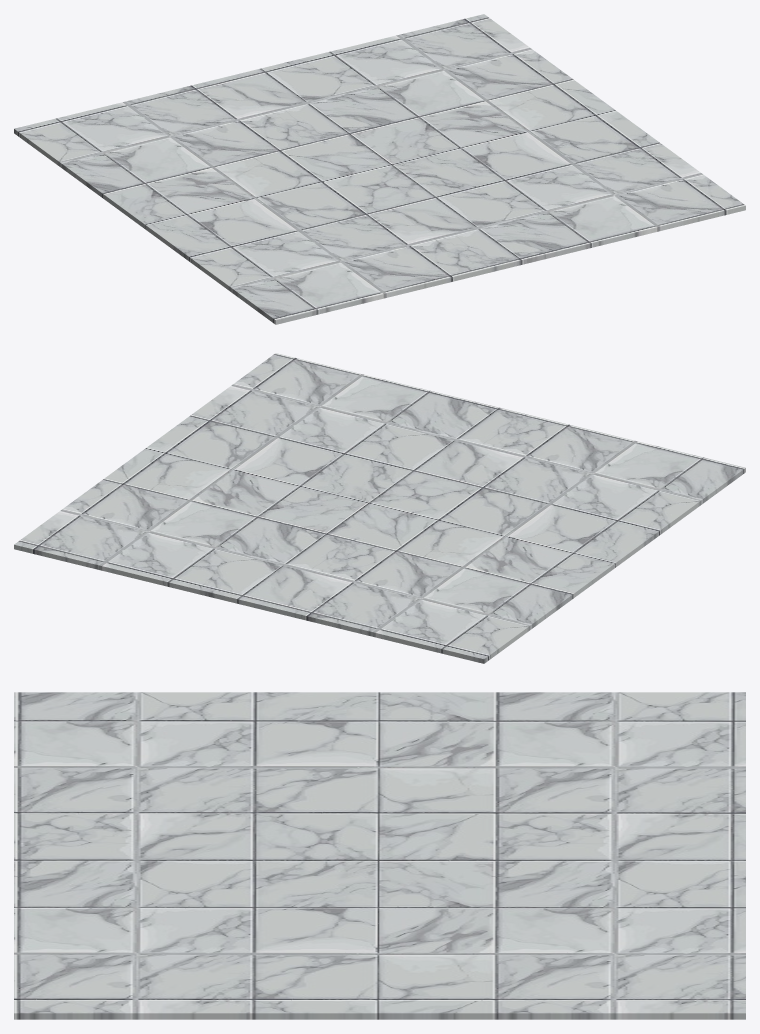
The picture shows the model from 3 angles, top to bottom: view 1: azimuth 30°, elevation 25°; view 2: azimuth 150°, elevation 25°; view 3: azimuth 270°, elevation 25°; orthographic projection. The views are drawn at different scales.
Visible parts, largest first — view 1: Cube.003; view 2: Cube.003; view 3: Cube.003.
Boxes of the visible parts, x1,y1,x2,y2 form: Cube.003: (14,14,745,324); Cube.003: (14,353,745,663); Cube.003: (14,692,745,1019).
Bounding box in the file's own units: 1096 × 10.2 × 1057.
1 material, 1 textured.
